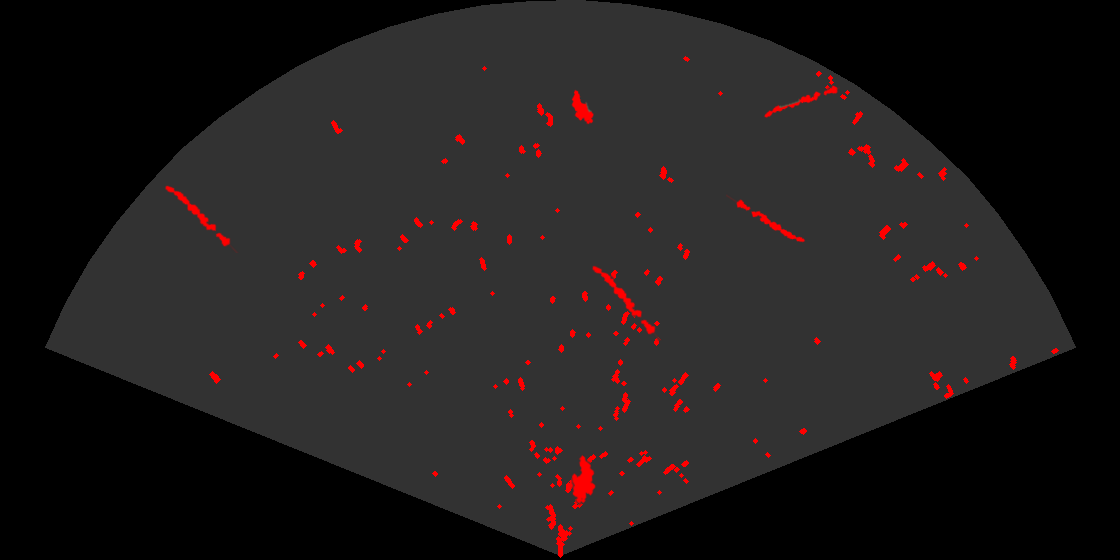AUV: (570, 453, 597, 506), (570, 88, 595, 126)
chain: (590, 264, 663, 341), (163, 184, 240, 253), (726, 193, 807, 244), (762, 84, 840, 119)
